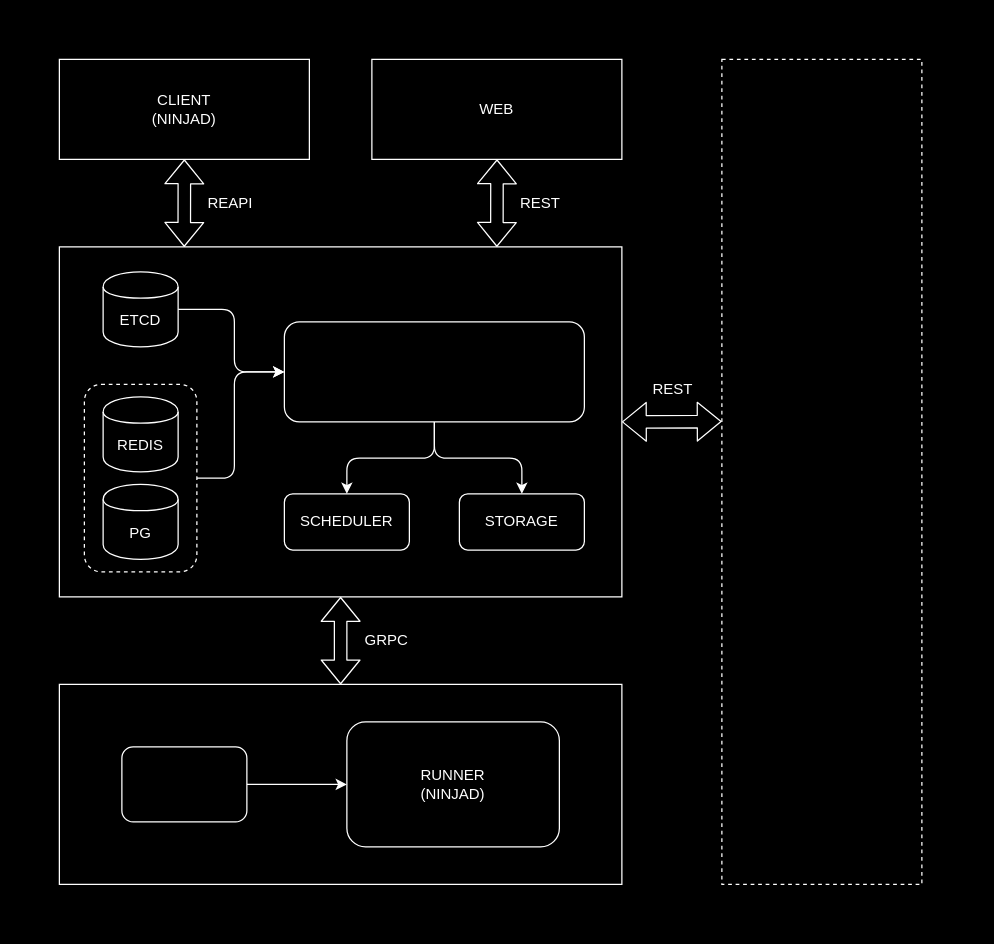
Some shapes in this 994 by 944 pixel diagram are drawn without their labels. The shapes that lost their labels are listed below. From the top down, each one's centre as x and y in pixels, then its label:
At point (433, 371): "CONTROLLER".
At point (821, 471): "PIPELINE".
At point (184, 784): "WORKER".
